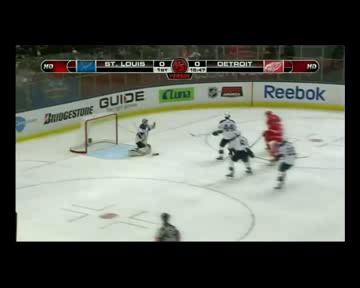normal: (210, 107, 256, 185)
